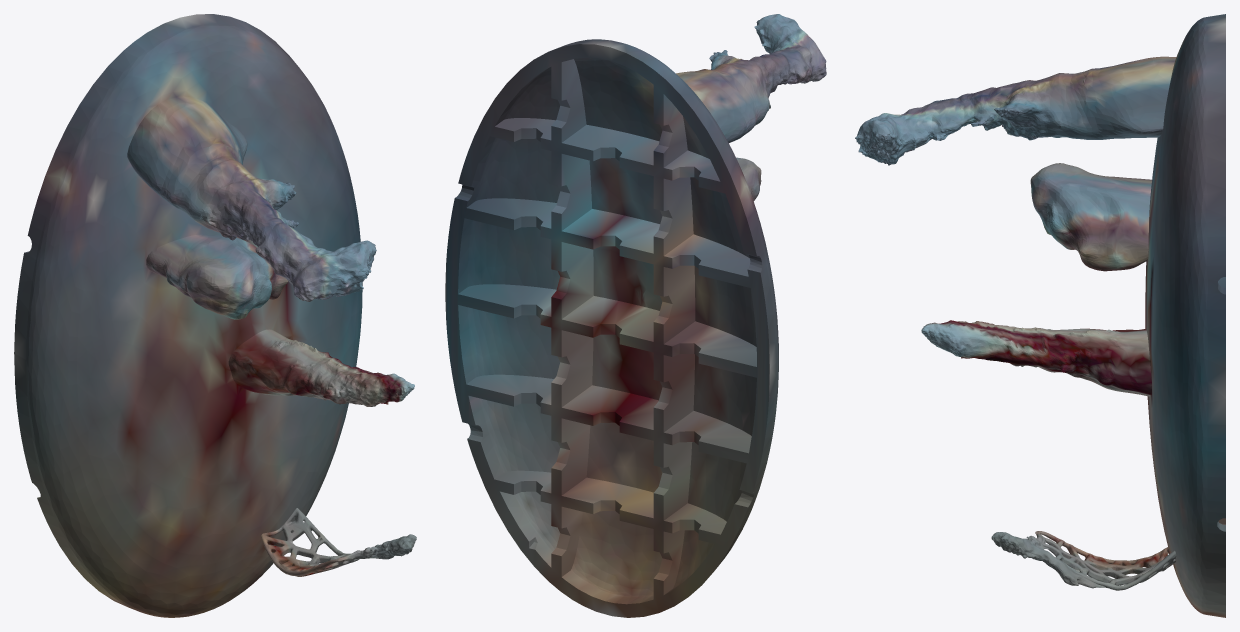
The model's file is pillars.glb.
3 views of the same model, side by side, from view 1: azimuth 30°, elevation 25°; view 2: azimuth 150°, elevation 25°; view 3: azimuth 270°, elevation 25° (orthographic). The views are drawn at different scales.
Parts seen in each view (by area): view 1: geometry_0; view 2: geometry_0; view 3: geometry_0.
Part boxes in pixels (x1=…): geometry_0: x1=14, y1=14, x2=416, y2=617; geometry_0: x1=445, y1=14, x2=826, y2=617; geometry_0: x1=855, y1=14, x2=1225, y2=617.
Bounding box in the file's own units: 9.57 × 16 × 9.24.
